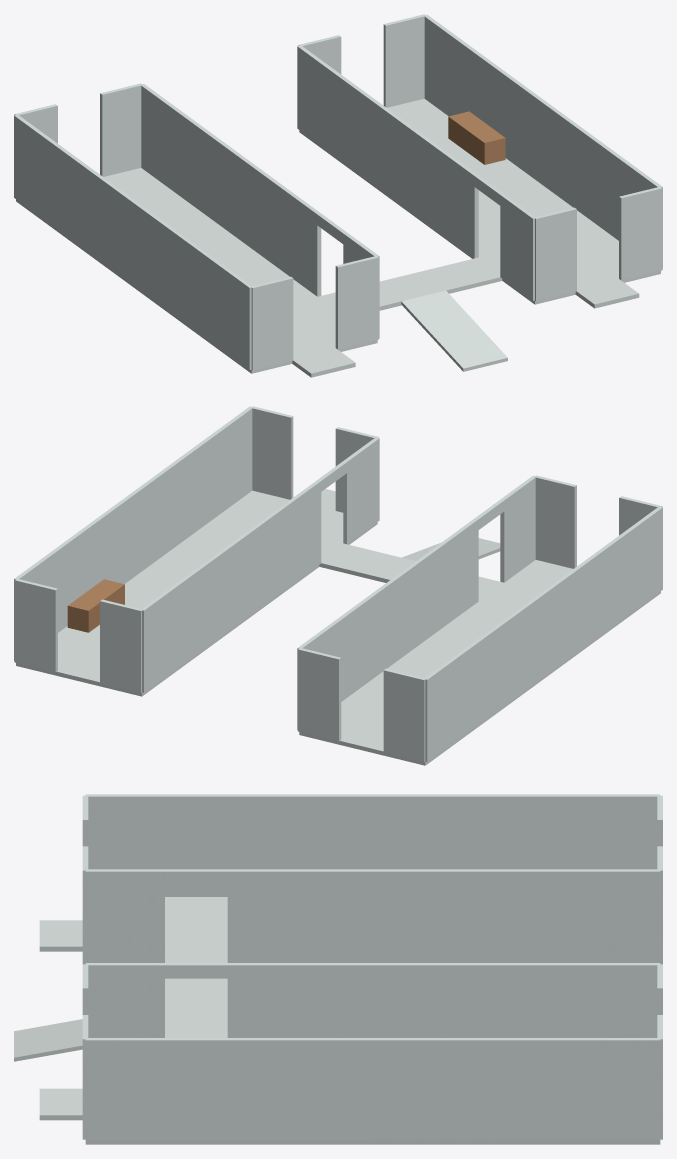
The model's file is engineering-workshop-interior.glb.
3 views of the same model, one above another, from view 1: azimuth 30°, elevation 25°; view 2: azimuth 150°, elevation 25°; view 3: azimuth 270°, elevation 25° (orthographic). The views are drawn at different scales.
Visible parts, largest first — view 1: engineering-workshop/bank-wall--1--7.809999999999999.002, engineering-workshop/bank-wall-1-7.809999999999999.002, engineering-workshop/bridge-bank-wall-1-rear.002, engineering-workshop/bridge-bank-wall--1-rear.002, engineering-workshop/bank-floor-1.002, engineering-workshop/bank-floor--1.002, waterworks-entry-ramp.004, engineering-workshop/end--1-7.785-1.002, engineering-workshop/end-1-7.785-1.002, engineering-workshop/end--1-7.785--1.002, engineering-workshop/end-1-7.785--1.002, engineering-workshop/end--1--7.785-1.002 (+9 smaller); view 2: engineering-workshop/bank-wall--1--7.809999999999999.002, engineering-workshop/bank-wall-1-7.809999999999999.002, engineering-workshop/bridge-bank-wall-1-rear.002, engineering-workshop/bridge-bank-wall--1-rear.002, engineering-workshop/bank-floor-1.002, engineering-workshop/bank-floor--1.002, engineering-workshop/end-1--7.785-1.002, engineering-workshop/end--1--7.785-1.002, engineering-workshop/end--1--7.785--1.002, engineering-workshop/end-1--7.785--1.002, engineering-workshop/end--1-7.785-1.002, engineering-workshop/end-1-7.785-1.002 (+7 smaller); view 3: engineering-workshop/bank-wall-1-7.809999999999999.002, engineering-workshop/bank-wall--1--7.809999999999999.002, engineering-workshop/bridge-bank-wall--1-rear.002, engineering-workshop/bridge-bank-wall-1-rear.002, engineering-workshop/bridge-bank-wall--1-front.002, engineering-workshop/bridge-bank-wall-1-front.002, engineering-workshop/bank-floor--1.002, engineering-workshop/elevated-channel-catwalk.002, engineering-workshop/bank-floor-1.002, waterworks-entry-ramp.004, engineering-workshop/portal-floor-1.002, engineering-workshop/portal-floor-0.002 (+4 smaller).
Boxes of the visible parts, x1,y1,x2,y2 form: engineering-workshop/bank-wall--1--7.809999999999999.002: [14, 114, 252, 369]; engineering-workshop/bank-wall-1-7.809999999999999.002: [423, 14, 662, 269]; engineering-workshop/bridge-bank-wall-1-rear.002: [297, 45, 478, 258]; engineering-workshop/bridge-bank-wall--1-rear.002: [141, 84, 321, 296]; engineering-workshop/bank-floor-1.002: [299, 98, 660, 304]; engineering-workshop/bank-floor--1.002: [16, 168, 377, 373]; waterworks-entry-ramp.004: [401, 290, 507, 371]; engineering-workshop/end--1-7.785-1.002: [335, 256, 378, 349]; engineering-workshop/end-1-7.785-1.002: [619, 187, 662, 280]; engineering-workshop/end--1-7.785--1.002: [251, 277, 293, 370]; engineering-workshop/end-1-7.785--1.002: [534, 207, 576, 301]; engineering-workshop/end--1--7.785-1.002: [100, 83, 141, 176]; engineering-workshop/bank-wall--1--7.809999999999999.002: [424, 506, 662, 761]; engineering-workshop/bank-wall-1-7.809999999999999.002: [14, 406, 252, 661]; engineering-workshop/bridge-bank-wall-1-rear.002: [140, 480, 321, 692]; engineering-workshop/bridge-bank-wall--1-rear.002: [297, 518, 478, 730]; engineering-workshop/bank-floor-1.002: [16, 490, 377, 696]; engineering-workshop/bank-floor--1.002: [299, 560, 660, 765]; engineering-workshop/end-1--7.785-1.002: [14, 579, 57, 672]; engineering-workshop/end--1--7.785-1.002: [298, 648, 341, 741]; engineering-workshop/end--1--7.785--1.002: [383, 668, 425, 762]; engineering-workshop/end-1--7.785--1.002: [100, 599, 141, 693]; engineering-workshop/end--1-7.785-1.002: [534, 475, 576, 568]; engineering-workshop/end-1-7.785-1.002: [252, 406, 293, 499]; engineering-workshop/bank-wall-1-7.809999999999999.002: [85, 1038, 660, 1140]; engineering-workshop/bank-wall--1--7.809999999999999.002: [85, 794, 660, 896]; engineering-workshop/bridge-bank-wall--1-rear.002: [227, 869, 660, 962]; engineering-workshop/bridge-bank-wall-1-rear.002: [227, 963, 660, 1037]; engineering-workshop/bridge-bank-wall--1-front.002: [85, 869, 164, 962]; engineering-workshop/bridge-bank-wall-1-front.002: [85, 963, 164, 1037]; engineering-workshop/bank-floor--1.002: [165, 897, 227, 962]; engineering-workshop/elevated-channel-catwalk.002: [165, 978, 227, 1037]; engineering-workshop/bank-floor-1.002: [85, 1140, 660, 1144]; waterworks-entry-ramp.004: [14, 1019, 82, 1061]; engineering-workshop/portal-floor-1.002: [39, 1088, 82, 1120]; engineering-workshop/portal-floor-0.002: [39, 920, 82, 951].
Bounding box in the file's own units: 15.77 × 3.92 × 17.59.
